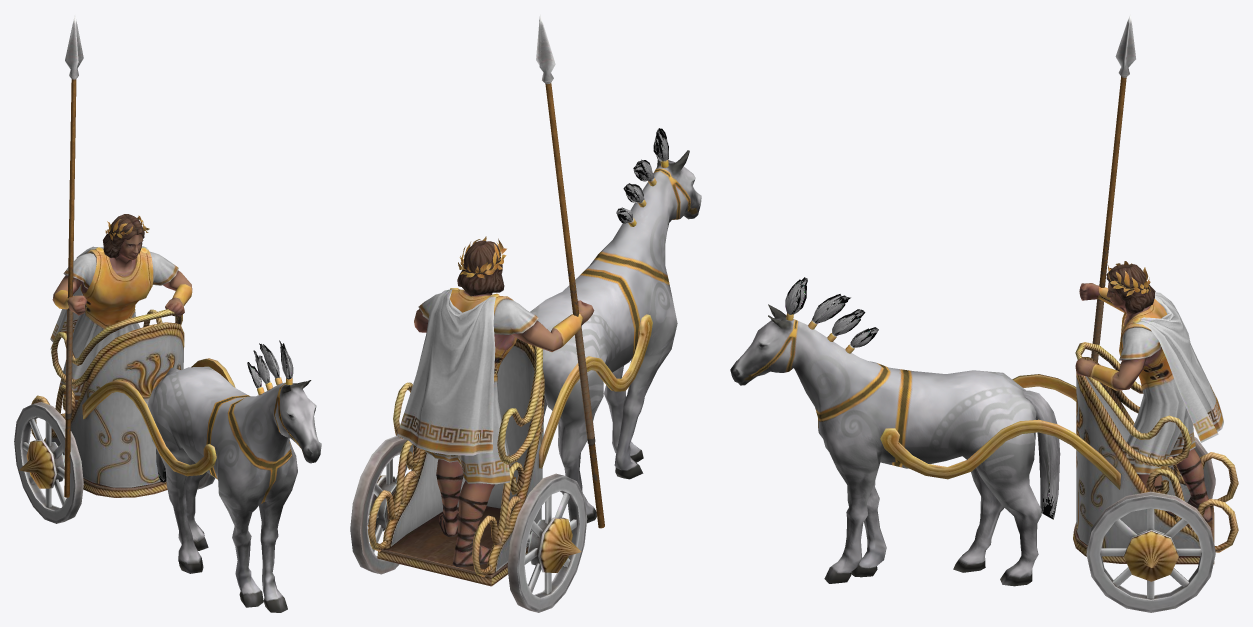
Rendered from 16-iolaus.glb.
3 renders of one model, left to right at view 1: azimuth 30°, elevation 25°; view 2: azimuth 150°, elevation 25°; view 3: azimuth 270°, elevation 25°, orthographic. The views are drawn at different scales.
Bounding box in the file's own units: 1.65 × 4.05 × 3.49.
Materials: 4 (4 with a texture image).
